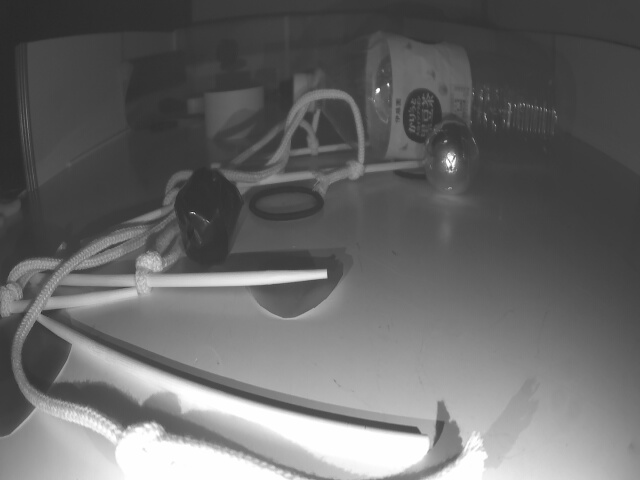Dead: (173, 172, 246, 268)
Live: (422, 117, 484, 196)
